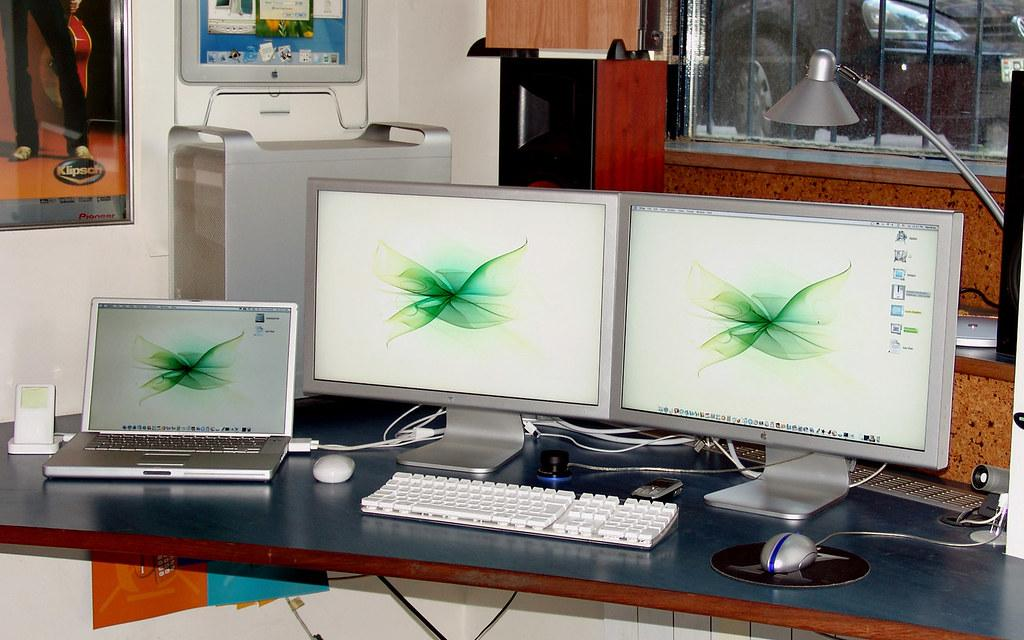computer: (611, 189, 965, 522), (302, 176, 620, 475), (167, 122, 453, 403), (43, 297, 299, 483)
